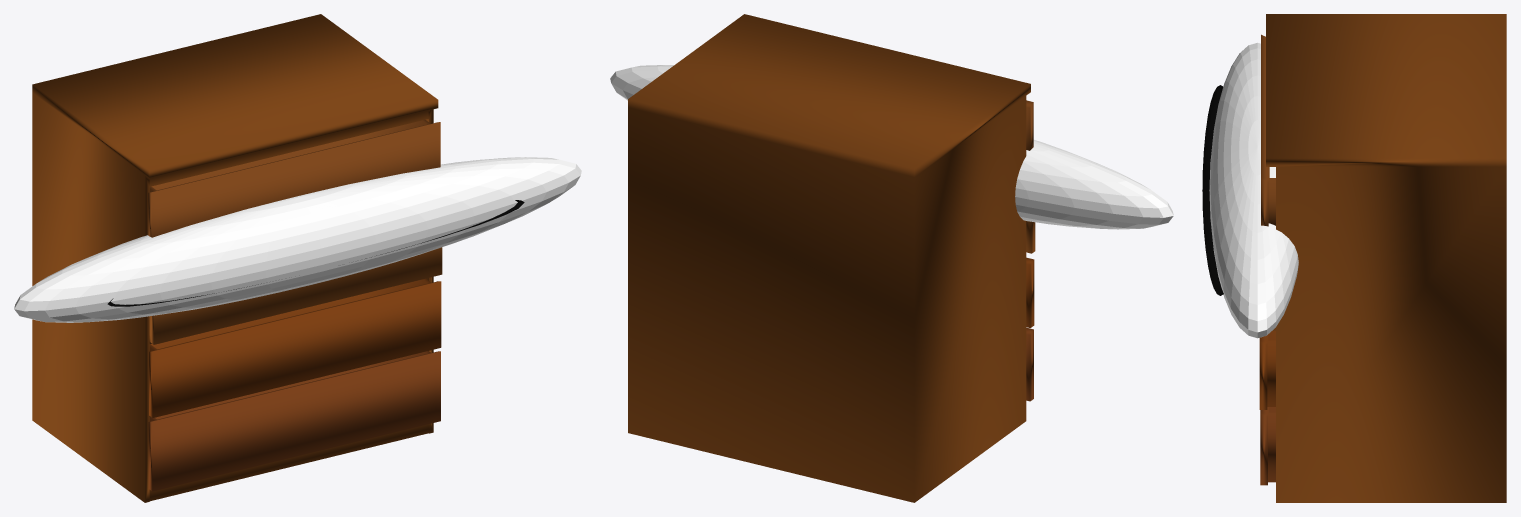
Rendered from BeafutalDresser.fbx.
The picture shows the model from 3 angles, left to right: view 1: azimuth 30°, elevation 25°; view 2: azimuth 150°, elevation 25°; view 3: azimuth 270°, elevation 25°; orthographic projection. The views are drawn at different scales.
Visible parts, largest first — view 1: Sphere; view 2: Sphere; view 3: Sphere.
Boxes of the visible parts, <box> form: Sphere: <box>14,14,581,502</box>; Sphere: <box>610,14,1173,502</box>; Sphere: <box>1202,14,1506,502</box>.
Bounding box in the file's own units: 322 × 182 × 146.
